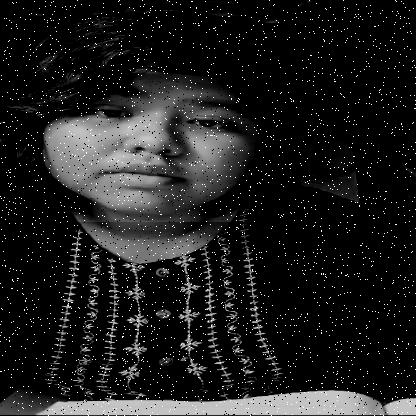Normal: (14, 38, 288, 222)
